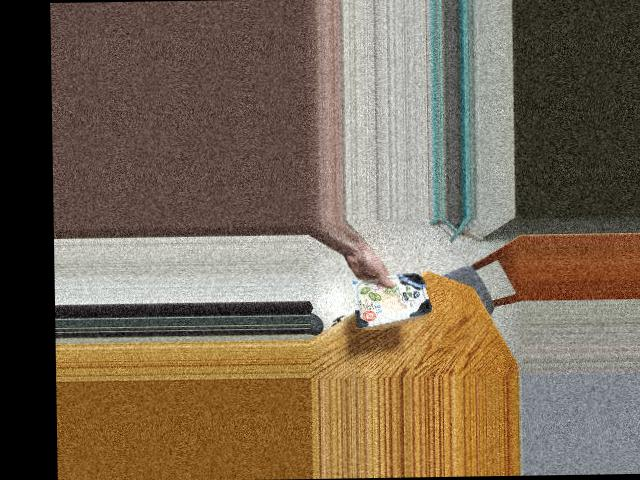cheese: (365, 265, 423, 328)
